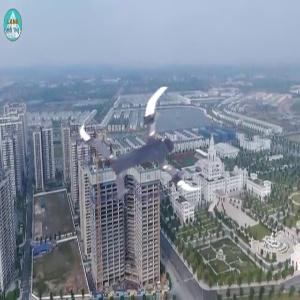drone: (90, 88, 216, 214)
